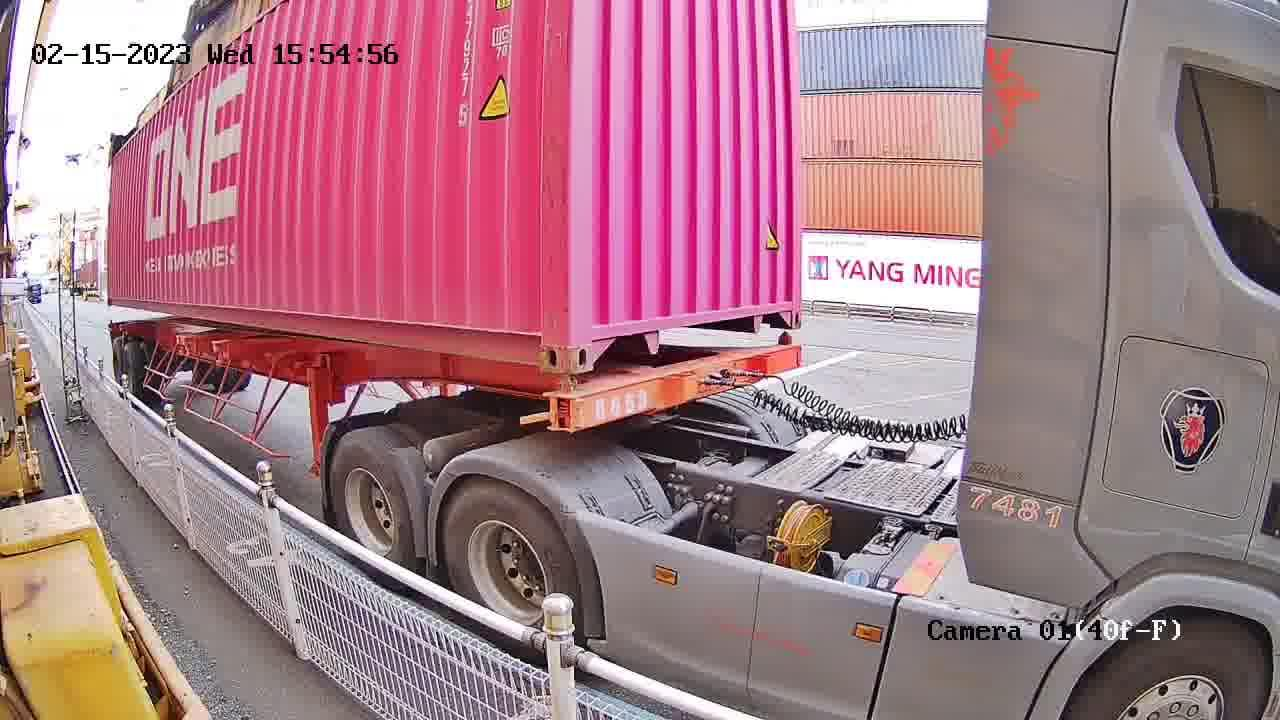Chassis: (573, 346, 802, 434)
Cone: (545, 375, 575, 432), (777, 330, 800, 370)
Hole_L: (569, 286, 631, 368)
Hole_R: (504, 299, 570, 370), (755, 271, 805, 330)
Tire: (441, 484, 583, 618), (326, 439, 414, 564)
